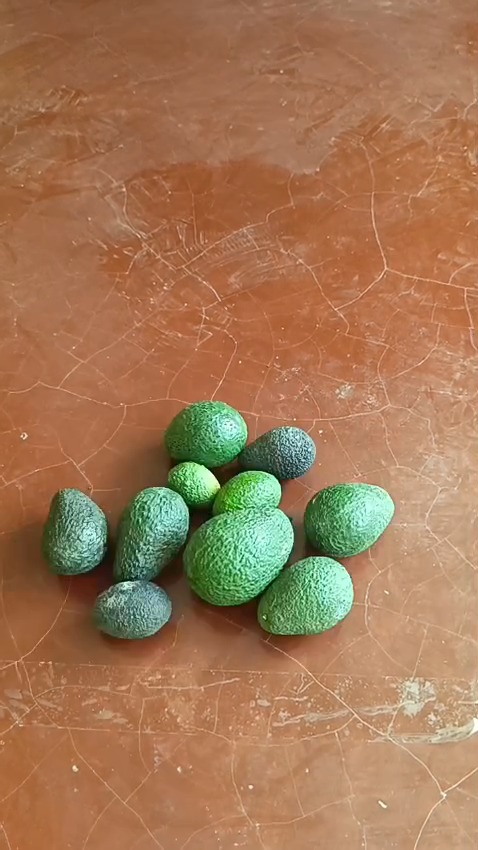Primera: (183, 506, 294, 604)
Segunda: (257, 556, 353, 635), (112, 486, 190, 582), (303, 482, 394, 557), (41, 487, 108, 576), (163, 400, 245, 467)
Tercera: (91, 577, 174, 640), (239, 425, 316, 481), (211, 470, 281, 517), (166, 460, 220, 510)
